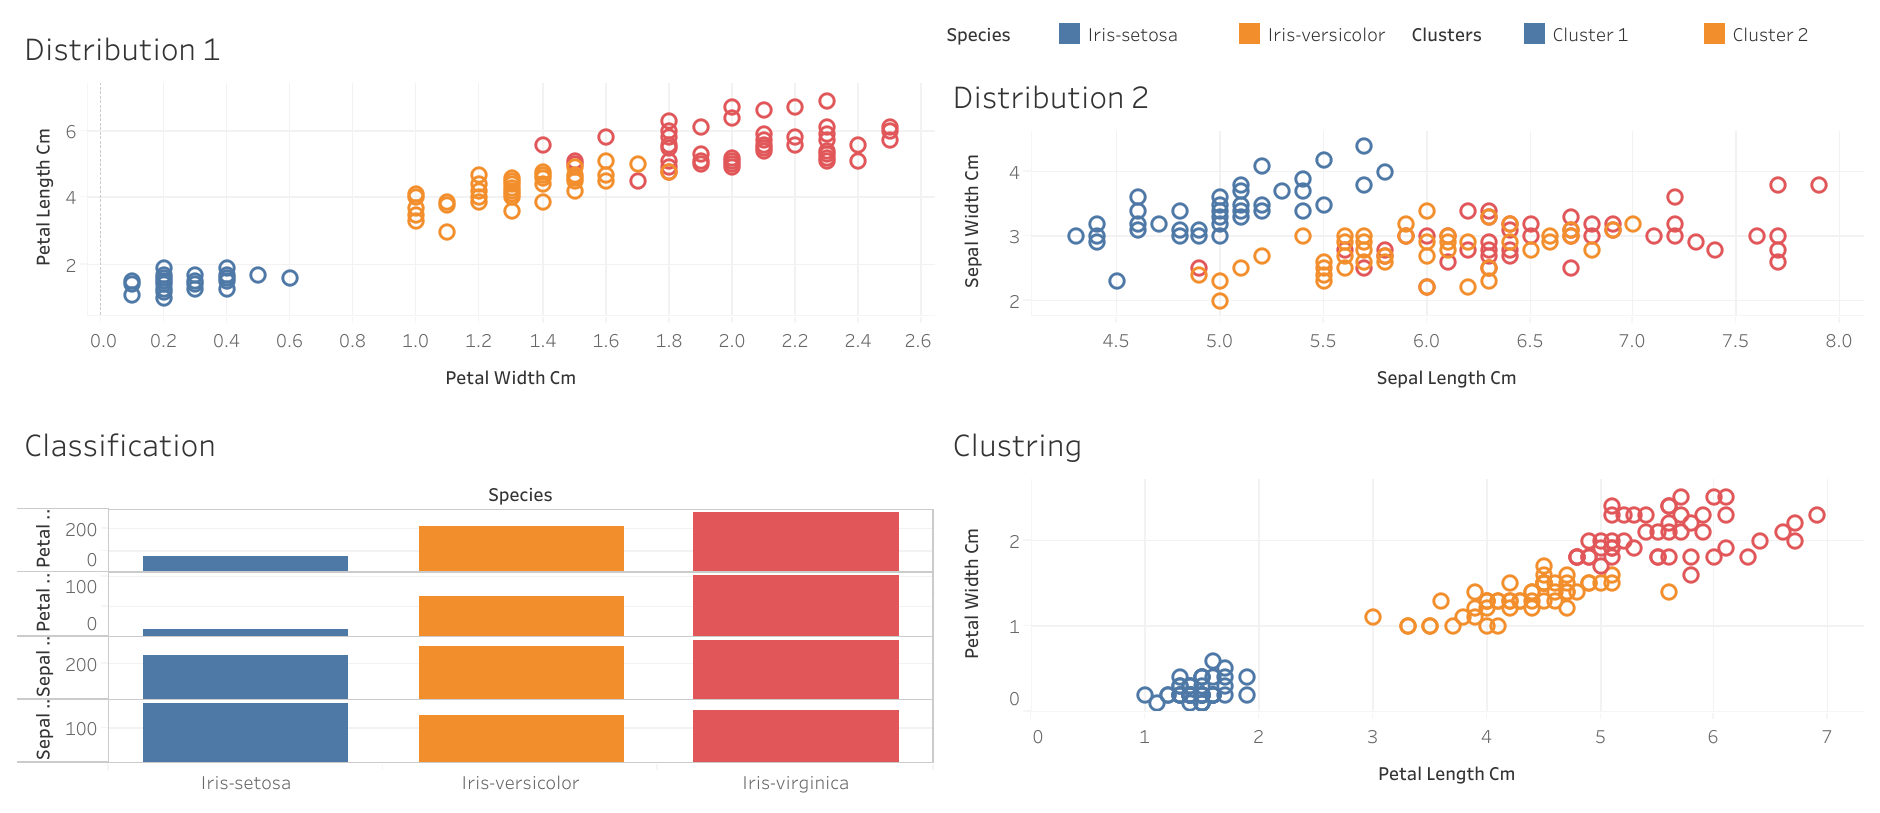

This screenshot's page, from the dashboard's own definition file:
{"tool":"tableau","page":{"name":"Dashboard 1","canvas":[1000,1000],"units":"permille","ordinal":0},"visuals":[{"type":"worksheet","title":"Distribution 1","mark":"Automatic","rows":["PetalLengthCm"],"cols":["PetalWidthCm"],"box":[5,9.1,495,471.5]},{"type":"legend","title":"Distribution 1","param":"[federated.18cztz40sk9hmg199lx2s1dhlv30].[none:Species:nk]","box":[500,9.1,229.4,36.5]},{"type":"legend","title":"Clustring","param":"[federated.18cztz40sk9hmg199lx2s1dhlv30].[none:AdhocCluster:1:ok]","box":[729.4,9.1,229.4,36.5]},{"type":"worksheet","title":"Distribution 2","mark":"Automatic","rows":["SepalWidthCm"],"cols":["SepalLengthCm"],"box":[500,45.6,495,454.4]},{"type":"worksheet","title":"Classification","mark":"Automatic","rows":["PetalLengthCm","PetalWidthCm","SepalLengthCm","SepalWidthCm"],"cols":["Species"],"box":[5,500,495,490.9]},{"type":"worksheet","title":"Clustring","mark":"Automatic","rows":["PetalWidthCm"],"cols":["PetalLengthCm"],"box":[500,500,495,454.4]}]}

Visuals, with their boxes on the dashboard's canvas, which has no fixed pixel size, in thousandths of its width and height (x1, y1, x2, y2). These are canvas units, not pixel positions in the 1880x813 screenshot, which may show the page scaled, cropped or inside an application window:
"Distribution 1" worksheet: bbox(5, 9, 500, 481)
"Distribution 1" legend: bbox(500, 9, 729, 46)
"Clustring" legend: bbox(729, 9, 959, 46)
"Distribution 2" worksheet: bbox(500, 46, 995, 500)
"Classification" worksheet: bbox(5, 500, 500, 991)
"Clustring" worksheet: bbox(500, 500, 995, 954)
